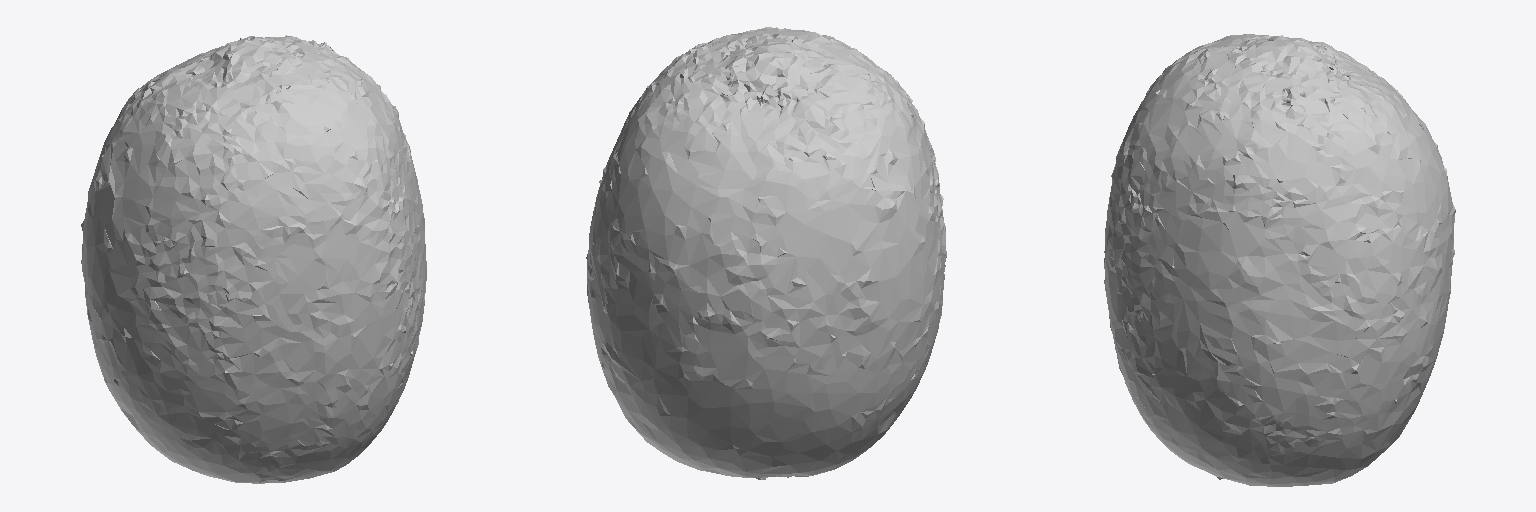
Rendered from food_kiwi_01.obj.
The picture shows the model from 3 angles: view 1: azimuth 30°, elevation 25°; view 2: azimuth 150°, elevation 25°; view 3: azimuth 270°, elevation 25°; orthographic projection.
Visible parts, largest first — view 1: food_kiwi_01; view 2: food_kiwi_01; view 3: food_kiwi_01.
Boxes of the visible parts, box(x1,y1,x2,y2) form: food_kiwi_01: box(81, 35, 426, 483); food_kiwi_01: box(586, 27, 946, 479); food_kiwi_01: box(1104, 34, 1455, 486).
Size of the model in its own units: 1.04 by 1.35 by 1.03.